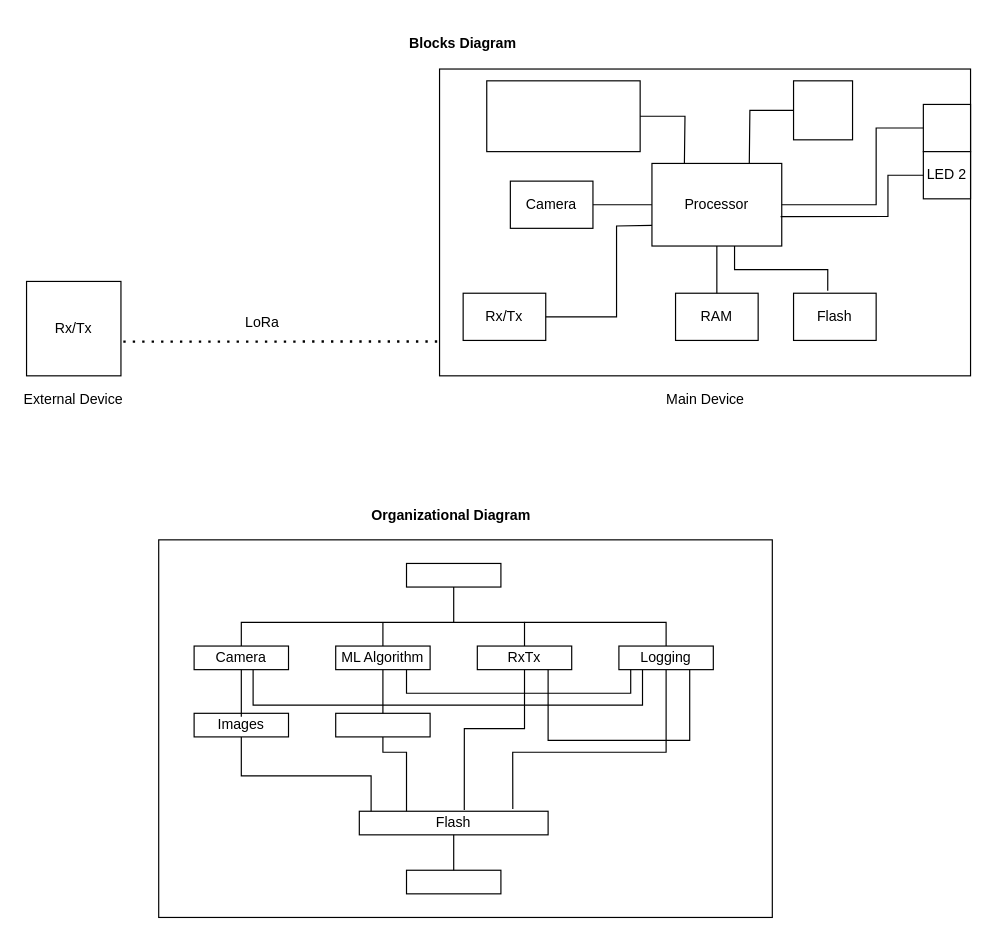
The diagram is 1001 pixels wide and 938 high, and some of its shapes have lost their labels. Each missing label, with the centre of its shape:
"DB" goes at point 382,724.
"LED 1" goes at point 946,127.
"Log Interface (JTAG?)" goes at point 563,116.
"Main" goes at point 453,574.
"PSU" goes at point 822,110.
"SPI" goes at point 453,881.
